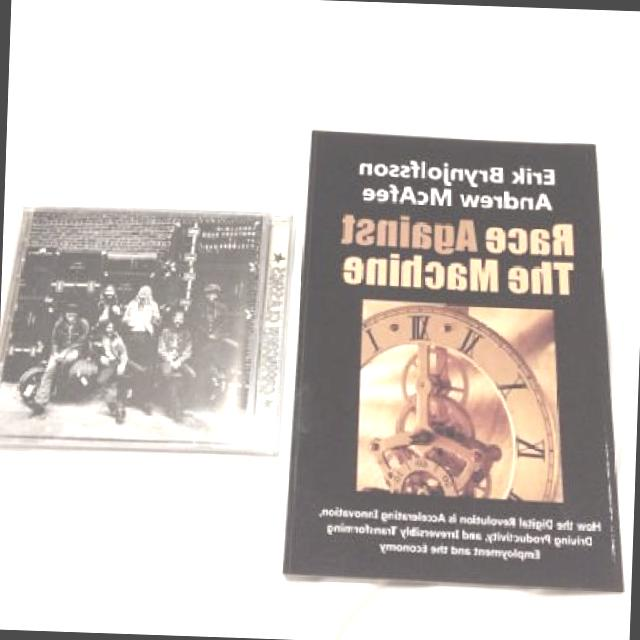Person: (18, 272, 246, 423), (30, 298, 86, 415)
